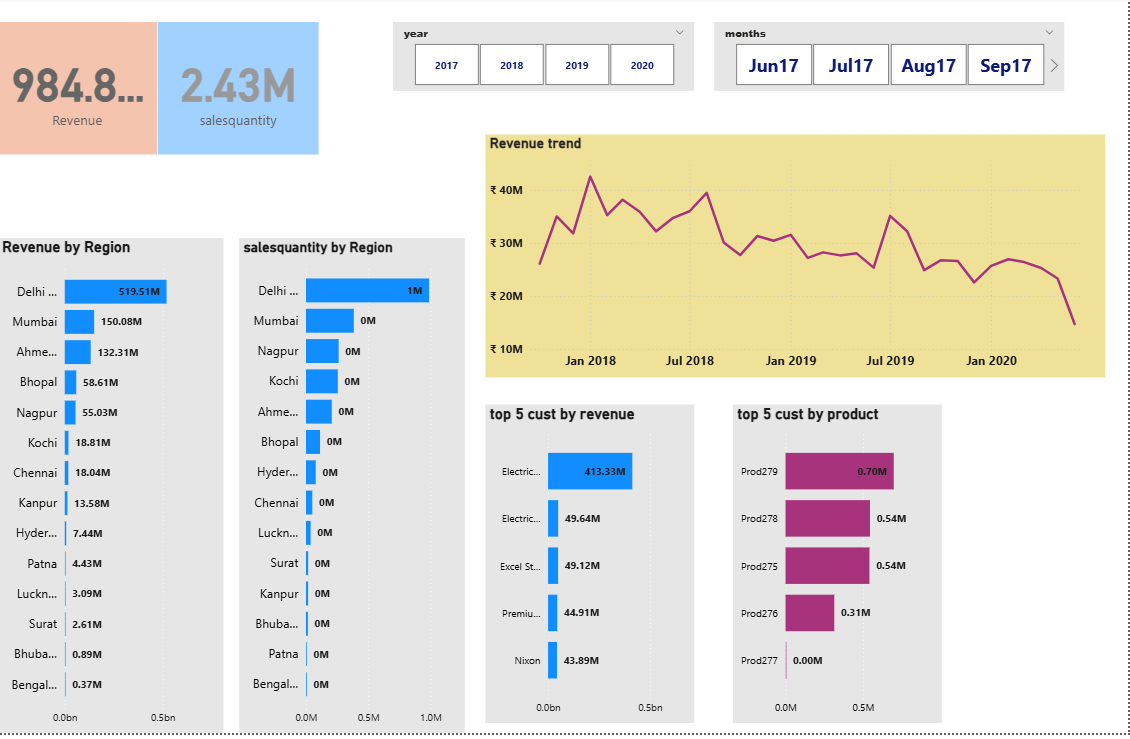

The page's visual inventory and layout, read from the dashboard file:
{"tool":"powerbi","page":{"name":"Page 1","canvas":[1350,850],"ordinal":0},"visuals":[{"type":"card","fields":{"Values":["basemeasure.Revenue"]},"box":[0,0,190,158],"z":0},{"type":"card","fields":{"Values":["basemeasure.salesquantity"]},"box":[192,0,192,158],"z":1000},{"type":"barChart","title":"Revenue by Region","fields":{"Y":["basemeasure.Revenue"],"Category":["sales markets.markets_name"]},"box":[0,258.7,269.3,591.7],"z":2000},{"type":"barChart","title":"salesquantity by Region","fields":{"Y":["basemeasure.salesquantity"],"Category":["sales markets.markets_name"]},"box":[288.8,258.7,269.3,591.7],"z":3000},{"type":"slicer","fields":{"Values":["sales date.year"]},"box":[446,22,360,82],"z":4000},{"type":"slicer","fields":{"Values":["sales date.cy_date"]},"box":[848,22,418,82],"z":5000},{"type":"barChart","title":"top 5 cust by product","fields":{"Y":["basemeasure.Revenue"],"Category":["sales products.product_code"]},"box":[878.7,457.1,249.8,380.9],"z":6000},{"type":"lineChart","title":"Revenue trend","fields":{"Y":["basemeasure.Revenue"],"Category":["sales date.cy_date.Variation.Date Hierarchy.Year","sales date.cy_date.Variation.Date Hierarchy.Quarter","sales date.cy_date.Variation.Date Hierarchy.Month","sales date.cy_date.Variation.Date Hierarchy.Day"]},"box":[582.9,134.6,740.6,290.6],"z":7000},{"type":"barChart","title":"top 5 cust by revenue","fields":{"Y":["basemeasure.Revenue"],"Category":["sales customers.custmer_name"]},"box":[582.9,457.1,249.8,380.9],"z":8000}]}

Visuals, with their boxes on the page's 1350x850 design canvas (x1, y1, x2, y2). These are canvas units, not pixel positions in the 1130x739 screenshot, which may show the page scaled, cropped or inside an application window:
card - basemeasure.Revenue: pyautogui.locateOnScreen(0, 0, 190, 158)
card - basemeasure.salesquantity: pyautogui.locateOnScreen(192, 0, 384, 158)
"Revenue by Region" barChart: pyautogui.locateOnScreen(0, 259, 269, 850)
"salesquantity by Region" barChart: pyautogui.locateOnScreen(289, 259, 558, 850)
slicer - sales date.year: pyautogui.locateOnScreen(446, 22, 806, 104)
slicer - sales date.cy_date: pyautogui.locateOnScreen(848, 22, 1266, 104)
"top 5 cust by product" barChart: pyautogui.locateOnScreen(879, 457, 1128, 838)
"Revenue trend" lineChart: pyautogui.locateOnScreen(583, 135, 1324, 425)
"top 5 cust by revenue" barChart: pyautogui.locateOnScreen(583, 457, 833, 838)
